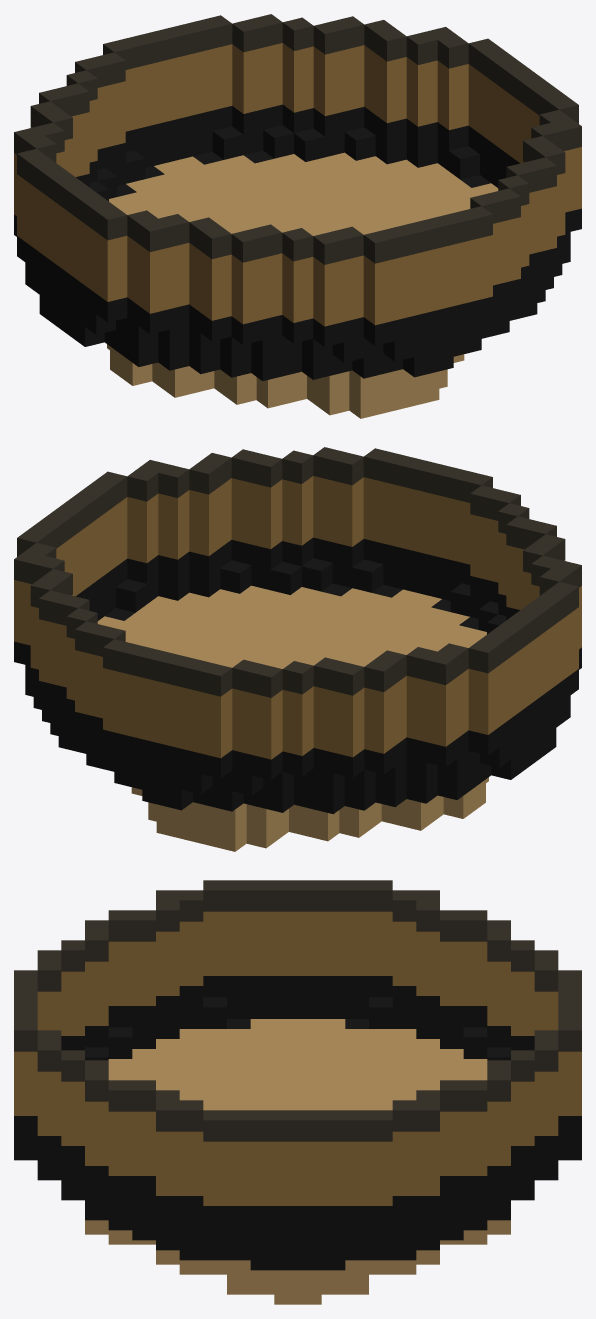
Rendered from Medieval Assets-42-Decoration - Desert - Urn Shallow - Variant9.obj.
3 renders of one model, top to bottom at view 1: azimuth 30°, elevation 25°; view 2: azimuth 150°, elevation 25°; view 3: azimuth 270°, elevation 25°, orthographic. The views are drawn at different scales.
Parts seen in each view (by area): view 1: Decoration - Desert - Urn Shallow - Variant9; view 2: Decoration - Desert - Urn Shallow - Variant9; view 3: Decoration - Desert - Urn Shallow - Variant9.
Boxes of the visible parts, x1=… form: Decoration - Desert - Urn Shallow - Variant9: x1=14, y1=14, x2=581, y2=418; Decoration - Desert - Urn Shallow - Variant9: x1=14, y1=447, x2=581, y2=851; Decoration - Desert - Urn Shallow - Variant9: x1=14, y1=880, x2=581, y2=1304.
Bounding box in the file's own units: 2.4 × 1 × 2.4.
Materials: 1 (1 with a texture image).
